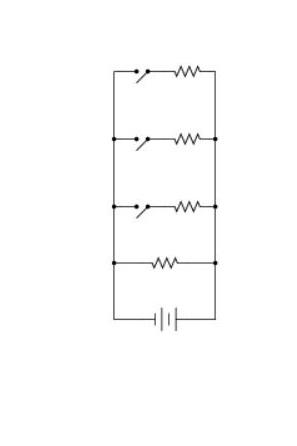resistor: (132, 246, 193, 281), (163, 56, 211, 89), (164, 121, 207, 149)
